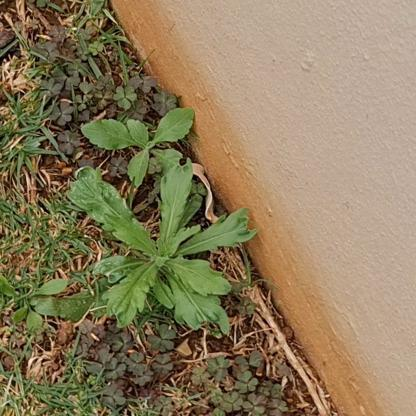Weeds: (65, 159, 257, 336), (80, 107, 198, 189), (1, 274, 70, 333)
